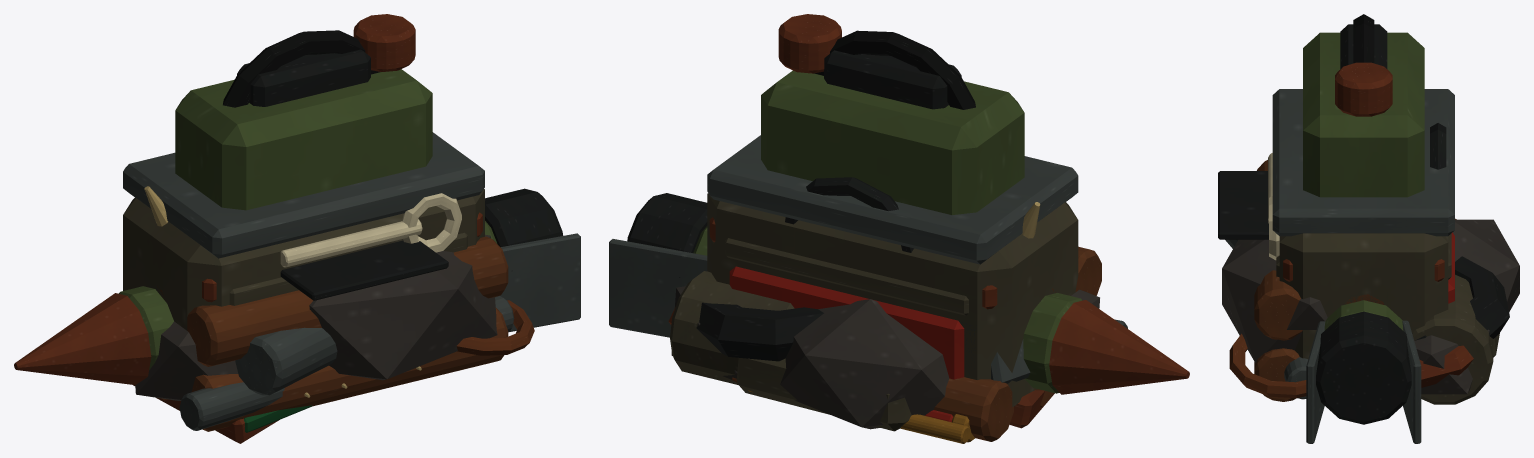
The model's file is ground_item_library.glb.
3 views of the same model, side by side, from view 1: azimuth 30°, elevation 25°; view 2: azimuth 150°, elevation 25°; view 3: azimuth 270°, elevation 25° (orthographic). The views are drawn at different scales.
Parts seen in each view (by area): view 1: oil_jerrycan, doctor_bag_frame, iron_ore_chunk_1, doctor_satchel, split_log_3, rocket_nose, rocket_fin_-1, split_log_0, jerrycan_inset, scrap_pipe, jerrycan_handle, iron_ore_chunk_0 (+11 smaller); view 2: oil_jerrycan, doctor_satchel, doctor_bag_frame, iron_ore_chunk_3, rocket_nose, rocket_fin_1, field_medkit, bandage_roll, scrap_gear, medkit_lid, jerrycan_handle, rocket_motor (+10 smaller); view 3: oil_jerrycan, doctor_bag_frame, doctor_satchel, rocket_motor, iron_ore_chunk_1, bandage_roll, jerrycan_inset, iron_ore_chunk_3, oil_cap, split_log_3, scrap_gear, iron_ore_chunk_2 (+13 smaller).
Part boxes in pixels (x1,y1,x2,y2): oil_jerrycan: (175, 69, 432, 210); doctor_bag_frame: (123, 132, 484, 258); iron_ore_chunk_1: (309, 234, 497, 380); doctor_satchel: (123, 189, 484, 330); split_log_3: (187, 236, 508, 366); rocket_nose: (14, 293, 151, 384); rocket_fin_-1: (499, 233, 580, 332); split_log_0: (191, 307, 508, 431); jerrycan_inset: (280, 240, 448, 300); scrap_pipe: (235, 327, 337, 395); jerrycan_handle: (237, 49, 370, 106); iron_ore_chunk_0: (135, 321, 238, 400); oil_jerrycan: (761, 70, 1024, 214); doctor_satchel: (707, 193, 1078, 407); doctor_bag_frame: (707, 135, 1078, 264); iron_ore_chunk_3: (780, 299, 949, 429); rocket_nose: (1049, 300, 1189, 394); rocket_fin_1: (609, 239, 707, 337); field_medkit: (729, 266, 964, 379); bandage_roll: (670, 271, 794, 384); scrap_gear: (696, 302, 823, 361); medkit_lid: (725, 238, 968, 315); jerrycan_handle: (824, 50, 961, 109); rocket_motor: (627, 193, 707, 277); oil_jerrycan: (1303, 32, 1424, 197); doctor_bag_frame: (1272, 89, 1454, 236); doctor_satchel: (1279, 233, 1448, 358); rocket_motor: (1316, 311, 1411, 424); iron_ore_chunk_1: (1222, 239, 1327, 363); bandage_roll: (1412, 274, 1493, 404); jerrycan_inset: (1218, 171, 1268, 239); iron_ore_chunk_3: (1452, 219, 1519, 312); oil_cap: (1335, 62, 1392, 116); split_log_3: (1254, 160, 1302, 340); scrap_gear: (1412, 256, 1509, 340); iron_ore_chunk_2: (1414, 329, 1489, 394).
Bounding box in the file's own units: 0.8648 × 0.542 × 0.4472.
18 materials, 18 textured.
